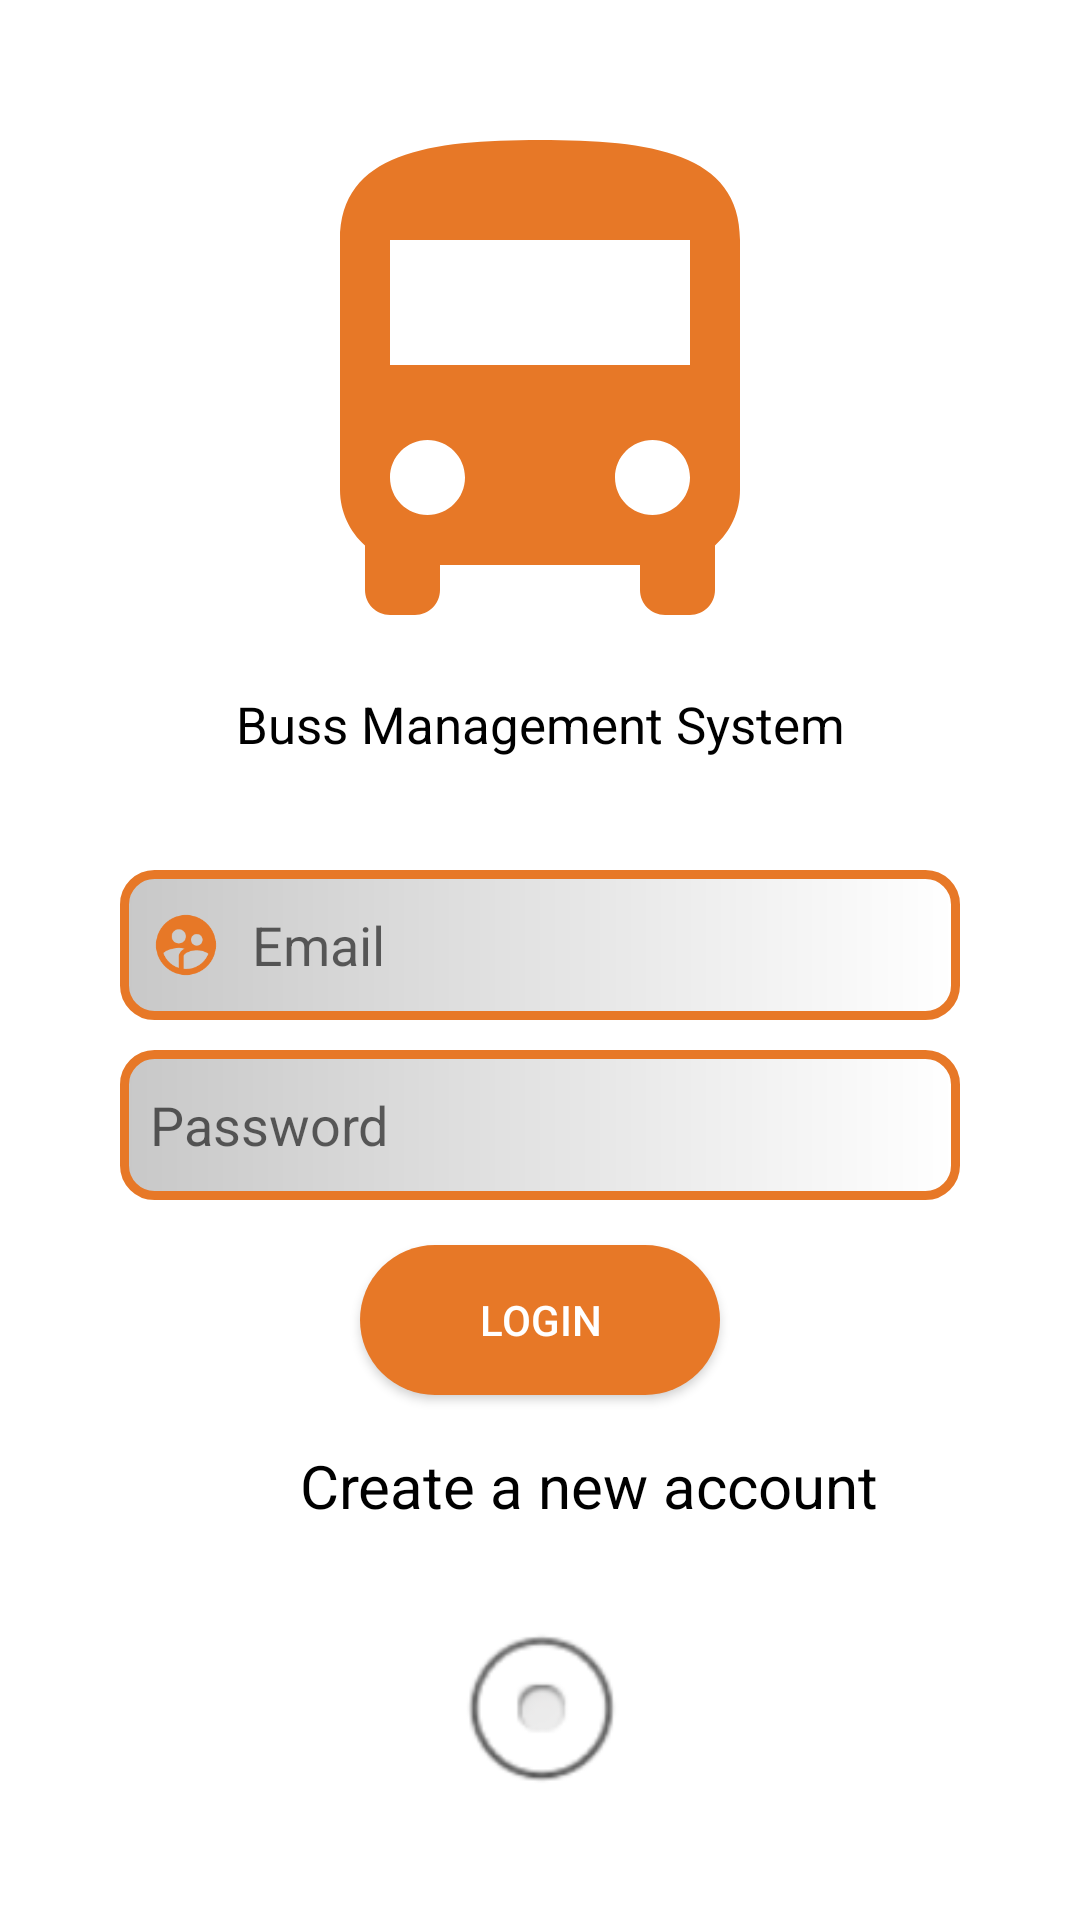

Where icons sit on this 1080 × 1920 app screen, as (x1, y1, x2, y2):
radio: (469, 1637, 614, 1781)
